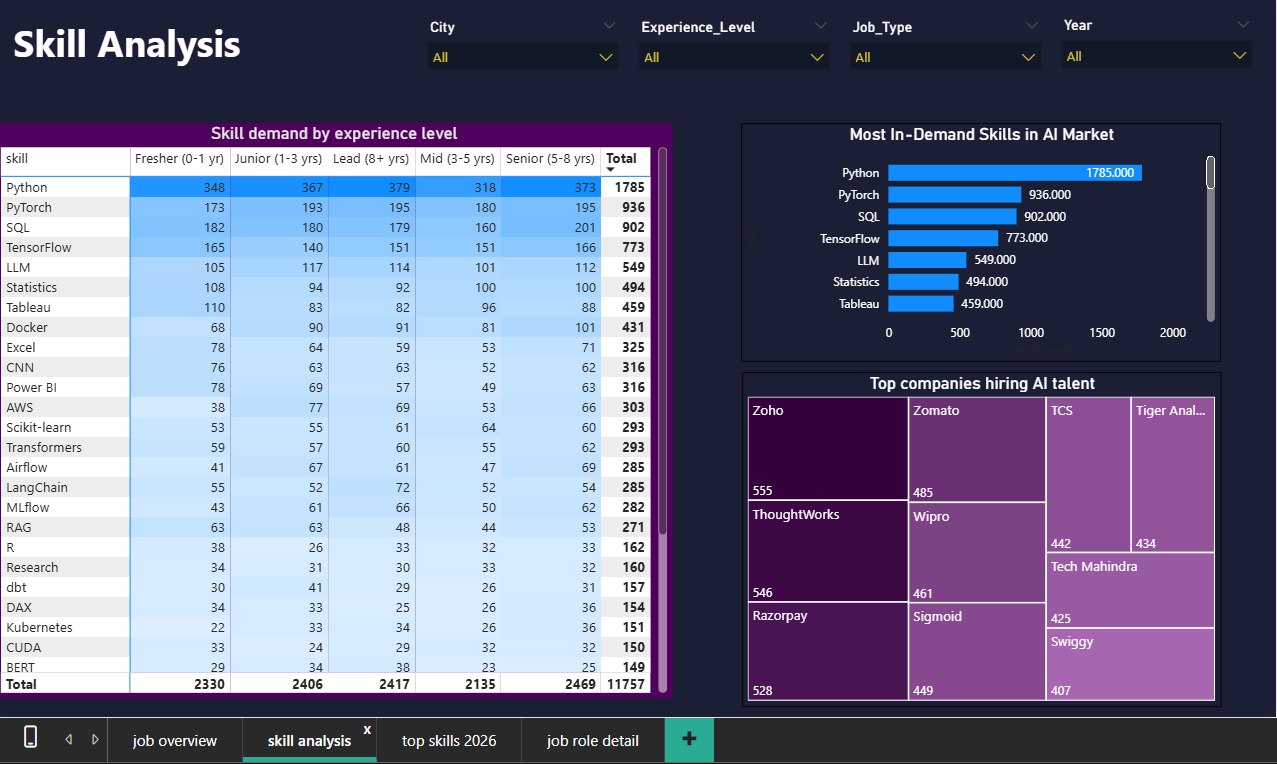

What the dashboard file says about the page in this screenshot:
{"tool":"powerbi","page":{"name":"skill analysis","canvas":[1280,720],"ordinal":1},"visuals":[{"type":"clusteredBarChart","title":"Most In-Demand Skills in AI Market","fields":{"Category":["ai_job_market_india.skill"],"Y":["calculation_Table.Skill Demand"]},"box":[745.1,126.2,480.3,238.8],"z":0},{"type":"pivotTable","title":"Skill demand by experience level","fields":{"Rows":["ai_job_market_india.skill"],"Columns":["ai_job_market_india.Experience_Level"],"Values":["calculation_Table.Skill Demand"]},"box":[0,126.2,676.5,575],"z":1000},{"type":"slicer","fields":{"Values":["ai_job_market_india.City"]},"box":[421.3,16.5,211.3,70],"z":2000},{"type":"slicer","fields":{"Values":["ai_job_market_india.Experience_Level"]},"box":[632.6,16.5,211.3,70],"z":3000},{"type":"slicer","fields":{"Values":["ai_job_market_india.Job_Type"]},"box":[843.9,16.5,211.3,70],"z":4000},{"type":"slicer","fields":{"Values":["Date_Table.Year"]},"box":[1055.2,15.1,211.3,70],"z":5000},{"type":"textbox","box":[12.3,14.7,376.7,69.9],"z":6000},{"type":"treemap","title":" Top companies hiring AI talent","fields":{"Group":["ai_job_market_india.Company"],"Values":["CountNonNull(ai_job_market_india.Job_ID)"]},"box":[746.5,374.6,478.9,334.8],"z":7000}]}

Visuals, with their boxes on the page's 1280x720 design canvas (x1, y1, x2, y2). These are canvas units, not pixel positions in the 1277x764 screenshot, which may show the page scaled, cropped or inside an application window:
"Most In-Demand Skills in AI Market" clusteredBarChart: pyautogui.locateOnScreen(745, 126, 1225, 365)
"Skill demand by experience level" pivotTable: pyautogui.locateOnScreen(0, 126, 676, 701)
slicer - ai_job_market_india.City: pyautogui.locateOnScreen(421, 16, 633, 86)
slicer - ai_job_market_india.Experience_Level: pyautogui.locateOnScreen(633, 16, 844, 86)
slicer - ai_job_market_india.Job_Type: pyautogui.locateOnScreen(844, 16, 1055, 86)
slicer - Date_Table.Year: pyautogui.locateOnScreen(1055, 15, 1266, 85)
textbox: pyautogui.locateOnScreen(12, 15, 389, 85)
" Top companies hiring AI talent" treemap: pyautogui.locateOnScreen(746, 375, 1225, 709)
